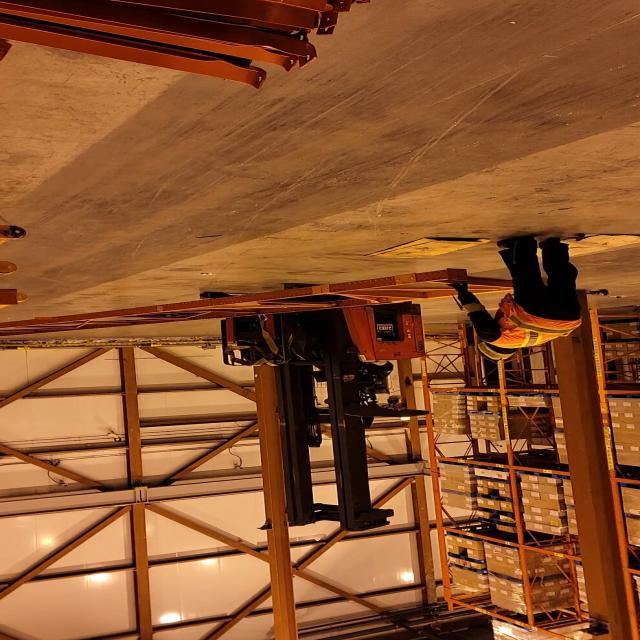forklift: (196, 281, 426, 524)
human: (440, 231, 589, 367), (296, 345, 408, 409)
objectofinterest: (1, 268, 538, 338), (497, 227, 640, 264), (360, 236, 495, 262)
